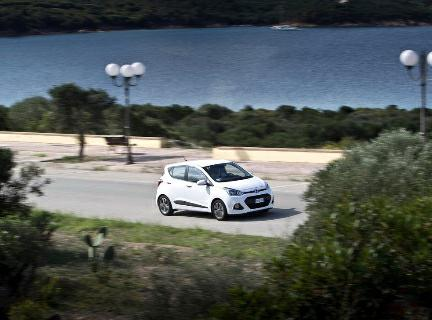现代-i10: (156, 158, 280, 224)
